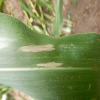Corn leaf blight: (0, 17, 99, 99)
